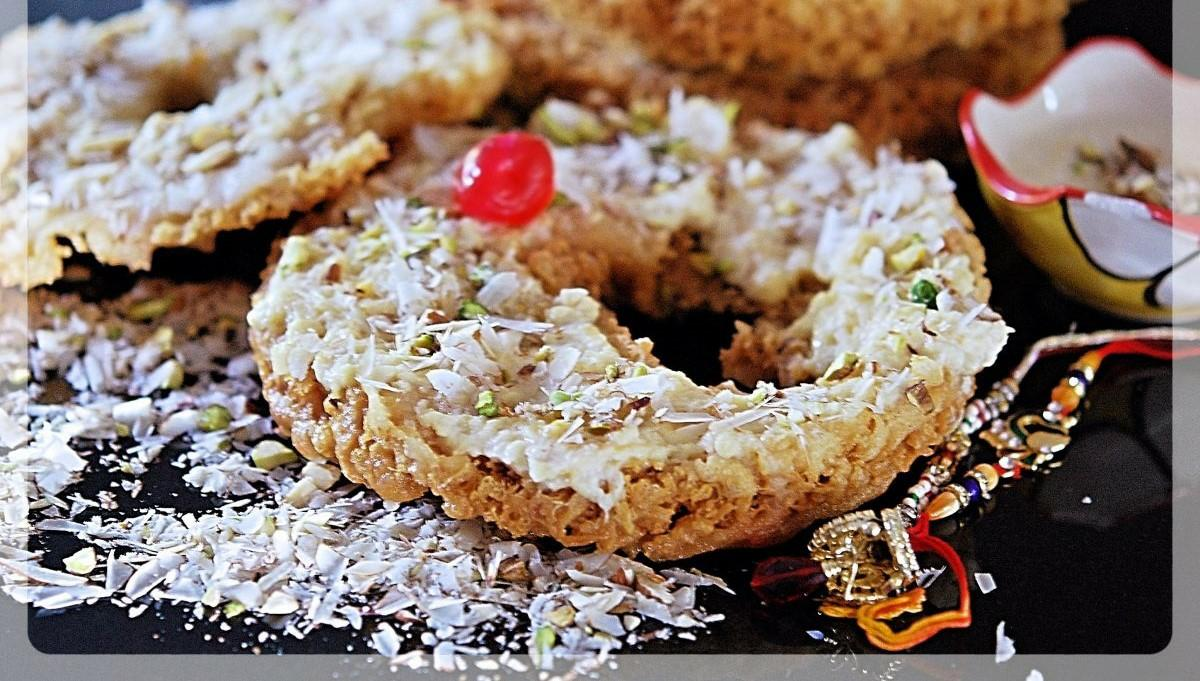Ghevar: (247, 92, 1012, 560), (0, 0, 501, 293), (476, 2, 1071, 142)
